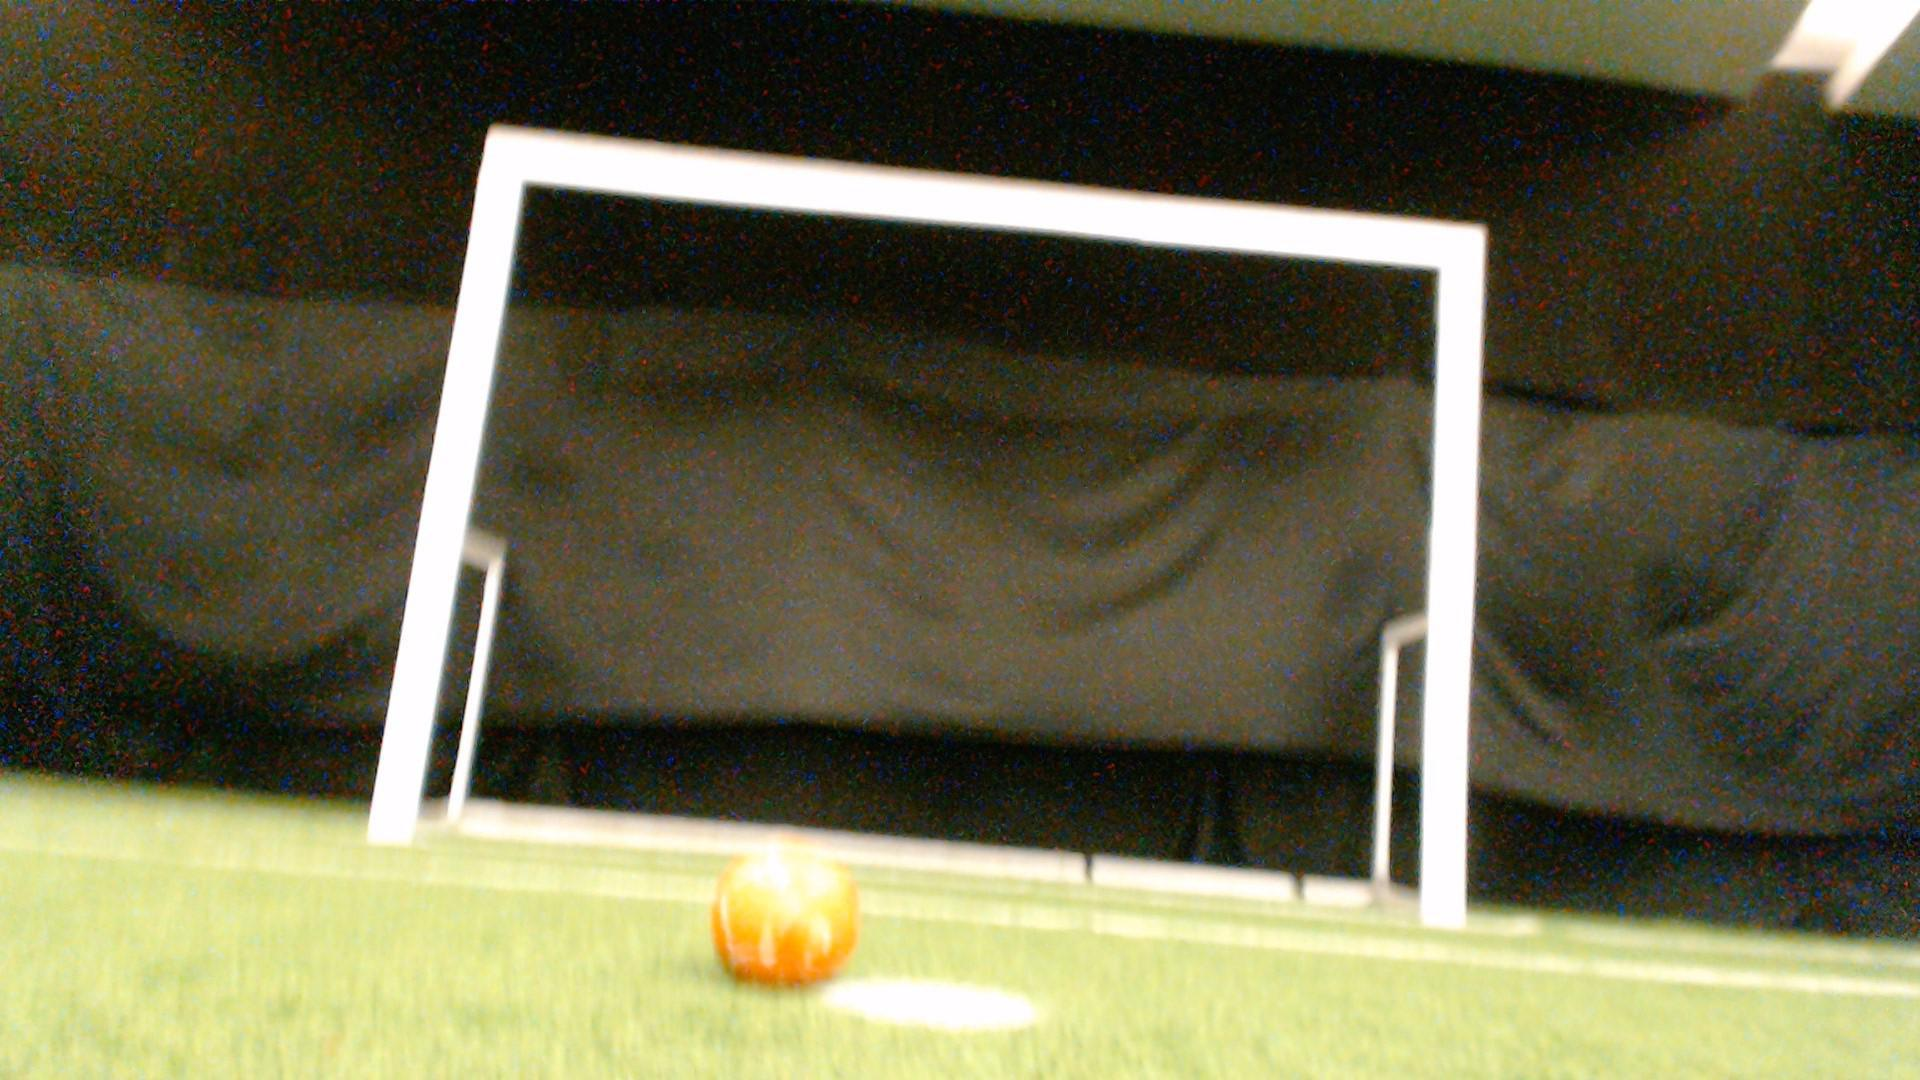bola: (691, 822, 872, 1000)
